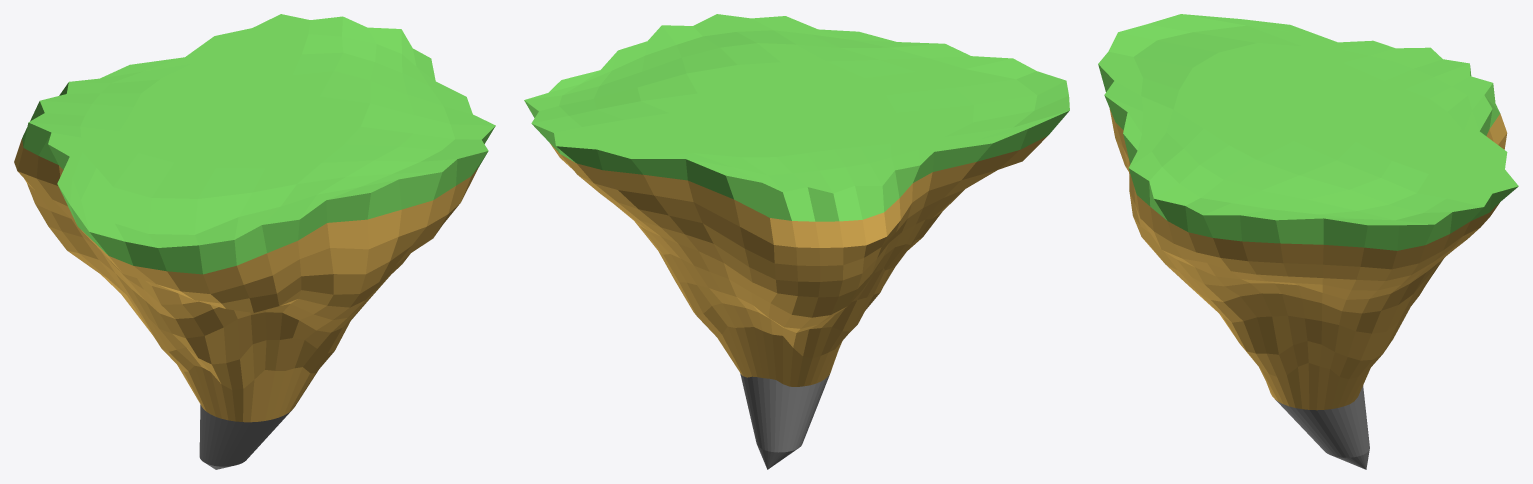
File: platform.glb
3 views of the same model, side by side, from view 1: azimuth 30°, elevation 25°; view 2: azimuth 150°, elevation 25°; view 3: azimuth 270°, elevation 25° (orthographic). The views are drawn at different scales.
Parts seen in each view (by area): view 1: Platform; view 2: Platform; view 3: Platform.
Boxes of the visible parts, x1,y1,x2,y2 form: Platform: (14, 14, 495, 469); Platform: (524, 14, 1069, 469); Platform: (1098, 14, 1518, 469).
Bounding box in the file's own units: 2.75 × 2.15 × 2.33.
